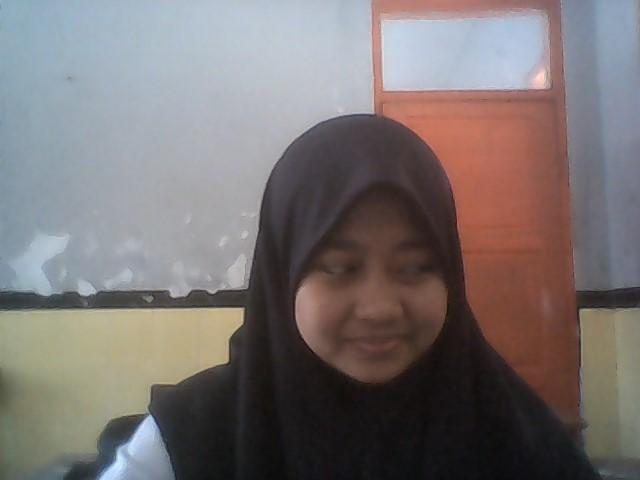cheating: (232, 87, 485, 399)
